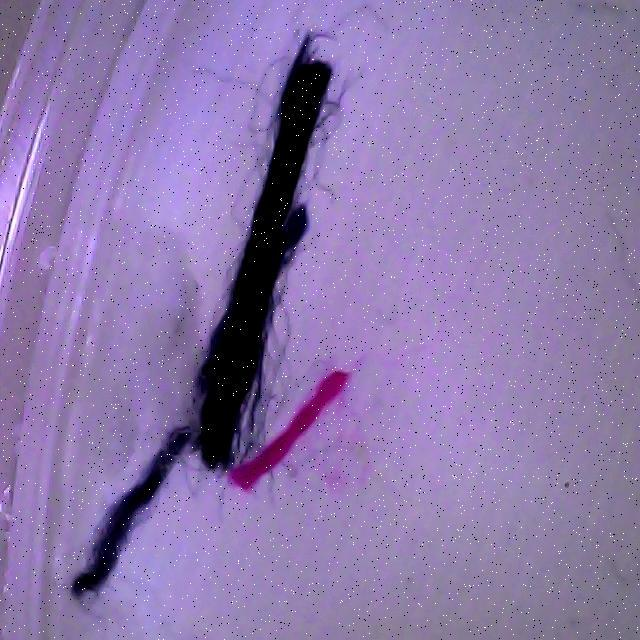fibers: (69, 19, 378, 633), (226, 364, 359, 498)
